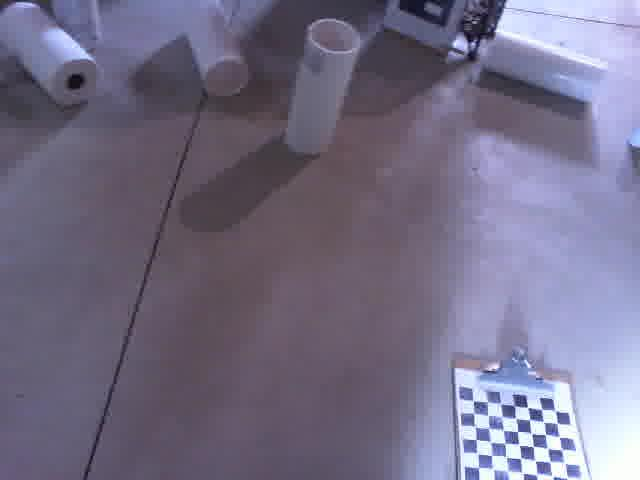coral: (282, 13, 362, 159), (481, 25, 614, 108), (178, 0, 250, 100)
